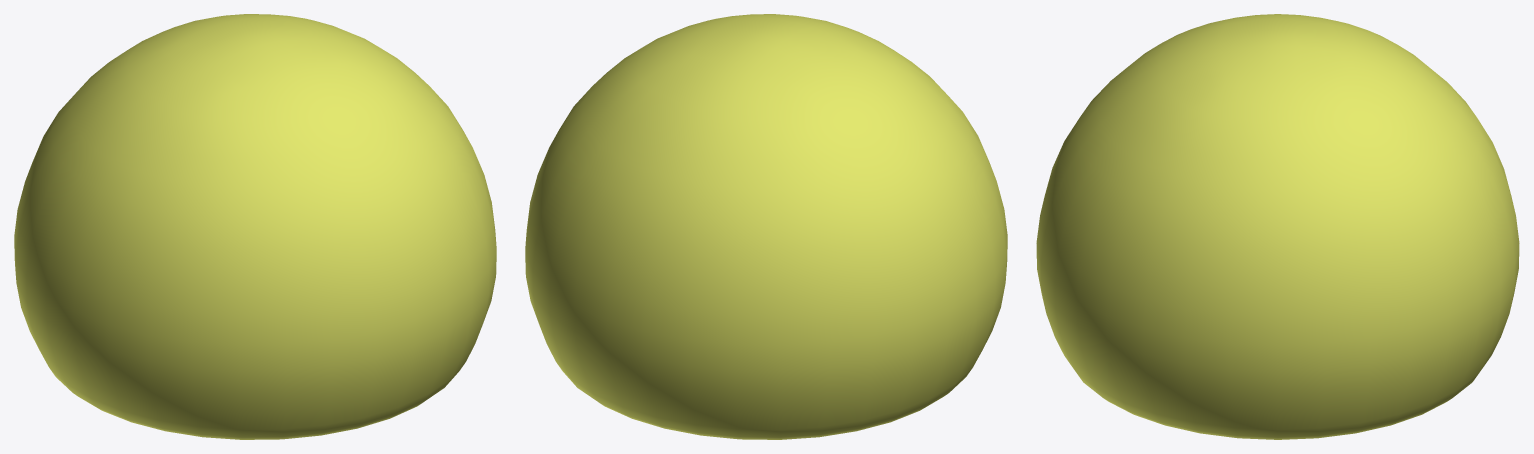
File: SM_20008ArbustoP.fbx
The picture shows the model from 3 angles, left to right: view 1: azimuth 30°, elevation 25°; view 2: azimuth 150°, elevation 25°; view 3: azimuth 270°, elevation 25°; orthographic projection.
Parts seen in each view (by area): view 1: SM_20008ArbustoP_geo_1; view 2: SM_20008ArbustoP_geo_1; view 3: SM_20008ArbustoP_geo_1.
Part boxes in pixels (x1,y1,x2,y2): SM_20008ArbustoP_geo_1: [14, 14, 496, 439]; SM_20008ArbustoP_geo_1: [525, 14, 1007, 439]; SM_20008ArbustoP_geo_1: [1036, 14, 1519, 439].
Bounding box in the file's own units: 37.95 × 27.98 × 37.93.
